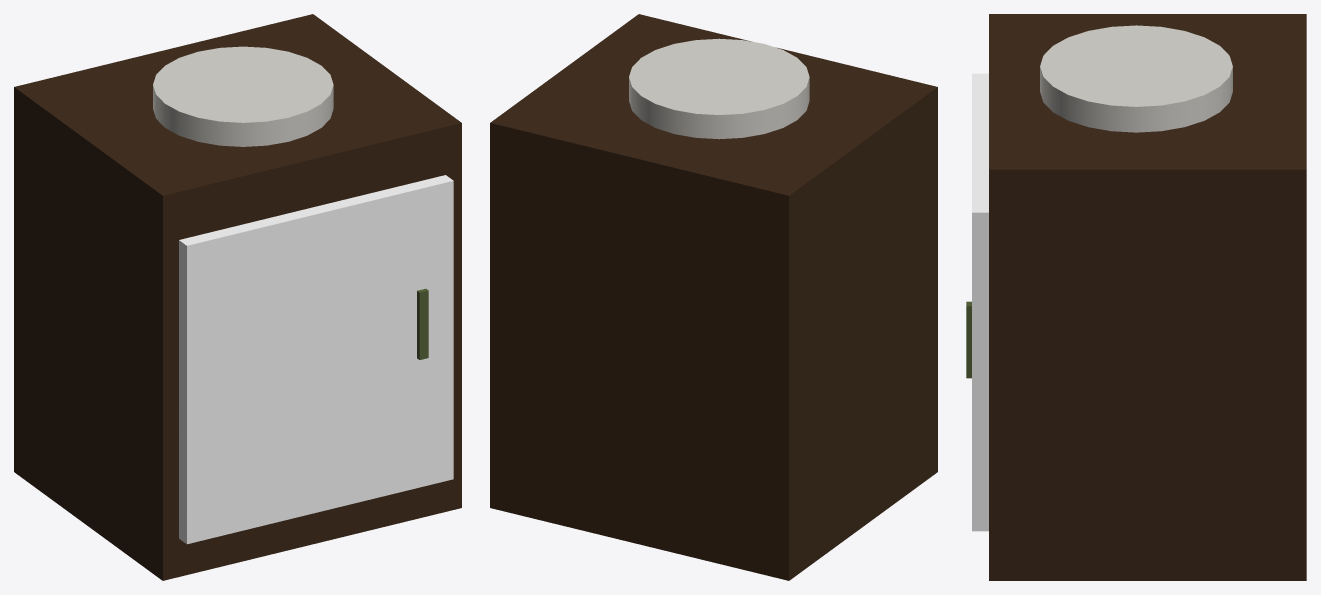
The model's file is laundrycabinet.glb.
The picture shows the model from 3 angles, left to right: view 1: azimuth 30°, elevation 25°; view 2: azimuth 150°, elevation 25°; view 3: azimuth 270°, elevation 25°; orthographic projection. The views are drawn at different scales.
Visible parts, largest first — view 1: material-0-body, material-1-door, material-3-top, material-2-metal; view 2: material-0-body, material-3-top; view 3: material-0-body, material-3-top, material-1-door, material-2-metal.
Boxes of the visible parts, <box> form: material-0-body: <box>14,14,461,580</box>; material-1-door: <box>179,175,453,544</box>; material-3-top: <box>153,46,333,146</box>; material-2-metal: <box>417,288,428,359</box>; material-0-body: <box>490,14,937,580</box>; material-3-top: <box>629,38,809,139</box>; material-0-body: <box>989,14,1306,580</box>; material-3-top: <box>1040,25,1232,132</box>; material-1-door: <box>972,73,988,531</box>; material-2-metal: <box>966,301,971,378</box>.
Size of the model in its own units: 0.65 by 0.85 by 0.6.
